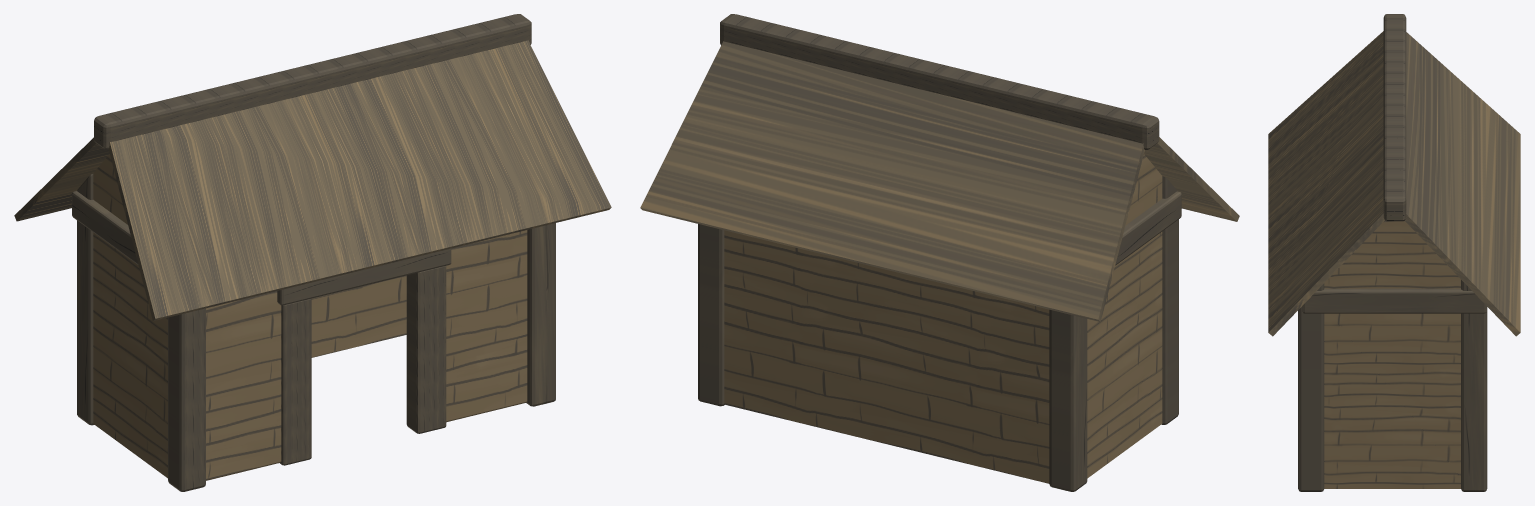
Rendered from house0.fbx.
3 views of the same model, side by side, from view 1: azimuth 30°, elevation 25°; view 2: azimuth 150°, elevation 25°; view 3: azimuth 270°, elevation 25° (orthographic). The views are drawn at different scales.
Parts seen in each view (by area): view 1: Cube.011, Cube.004, Cube.007, Cube.013, Cube.012, Cube.003, Cube, Cube.001, Cube.002, Cube.006, Cube.005, Cube.010 (+1 smaller); view 2: Cube.010, Cube, Cube.007, Cube.013, Cube.006, Cube.008, Cube.012, Cube.011, Cube.014; view 3: Cube.009, Cube.011, Cube.010, Cube.013, Cube.008, Cube.001, Cube.015.
Boxes of the visible parts, x1,y1,x2,y2 form: Cube.011: [108, 40, 611, 320]; Cube.004: [206, 230, 527, 480]; Cube.007: [93, 154, 167, 478]; Cube.013: [94, 14, 531, 149]; Cube.012: [168, 308, 205, 491]; Cube.003: [406, 266, 446, 433]; Cube: [311, 275, 406, 357]; Cube.001: [526, 223, 555, 406]; Cube.002: [280, 298, 311, 465]; Cube.006: [77, 174, 94, 425]; Cube.005: [277, 248, 451, 305]; Cube.010: [14, 137, 109, 221]; Cube.010: [640, 41, 1144, 321]; Cube: [724, 230, 1049, 483]; Cube.007: [1087, 154, 1162, 478]; Cube.013: [720, 14, 1159, 149]; Cube.006: [1049, 309, 1087, 491]; Cube.008: [698, 224, 724, 406]; Cube.012: [1161, 176, 1178, 424]; Cube.011: [1144, 137, 1239, 221]; Cube.014: [1115, 191, 1181, 265]; Cube.009: [1324, 220, 1460, 488]; Cube.011: [1268, 31, 1384, 336]; Cube.010: [1405, 32, 1520, 336]; Cube.013: [1383, 14, 1406, 221]; Cube.008: [1461, 280, 1487, 491]; Cube.001: [1298, 283, 1324, 491]; Cube.015: [1302, 288, 1486, 313].
Size of the model in its own units: 1055 by 755 by 565.
3 materials, 3 textured.
